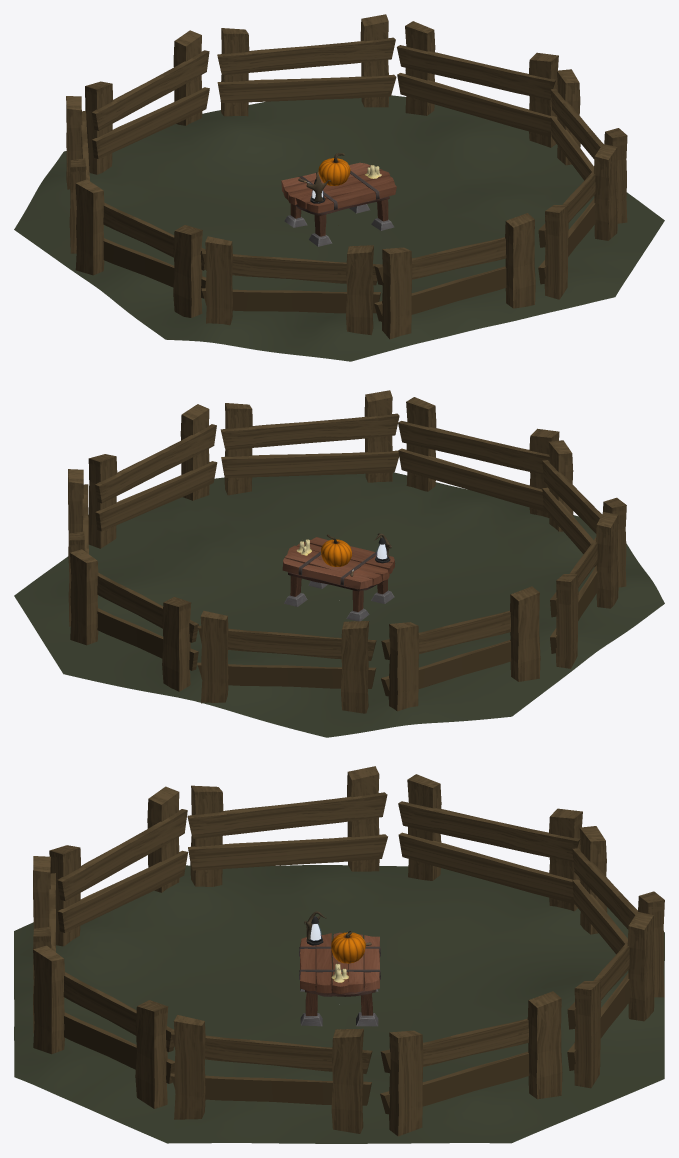
Rendered from KabakSahne180.fbx.
The picture shows the model from 3 angles, top to bottom: view 1: azimuth 30°, elevation 25°; view 2: azimuth 150°, elevation 25°; view 3: azimuth 270°, elevation 25°; orthographic projection. The views are drawn at different scales.
Parts seen in each view (by area): view 1: Plane, Cube.005, Cube.009, Cube.001, Cube.004, Cube.008, Cube.006, Cube.002, Tahta5, Cube.003, Cube.007, KabakDis; view 2: Plane, Cube.002, Cube.006, Cube.007, Cube.001, Cube.003, Cube.005, Cube.008, Tahta5, Cube.009, Cube.004, KabakDis; view 3: Plane, Cube.008, Cube.003, Cube.004, Cube.007, Cube.002, Cube.009, Cube.005, Cube.006, Tahta5, Cube.001, KabakDis.
Boxes of the visible parts, bbox=[...] form: Plane: bbox=[14, 95, 664, 361]; Cube.005: bbox=[217, 14, 396, 116]; Cube.009: bbox=[201, 236, 380, 335]; Cube.001: bbox=[374, 213, 535, 339]; Cube.004: bbox=[397, 21, 558, 147]; Cube.008: bbox=[75, 179, 206, 317]; Cube.006: bbox=[85, 30, 209, 174]; Cube.002: bbox=[538, 144, 617, 299]; Tahta5: bbox=[281, 162, 396, 246]; Cube.003: bbox=[550, 69, 627, 223]; Cube.007: bbox=[66, 96, 89, 253]; KabakDis: bbox=[318, 158, 350, 185]; Plane: bbox=[14, 472, 664, 737]; Cube.002: bbox=[220, 390, 399, 495]; Cube.006: bbox=[197, 610, 376, 713]; Cube.007: bbox=[381, 586, 540, 711]; Cube.001: bbox=[398, 397, 559, 518]; Cube.003: bbox=[88, 404, 217, 548]; Cube.005: bbox=[70, 549, 198, 691]; Cube.008: bbox=[550, 512, 618, 668]; Tahta5: bbox=[282, 537, 395, 621]; Cube.009: bbox=[542, 440, 626, 587]; Cube.004: bbox=[68, 469, 88, 626]; KabakDis: bbox=[321, 539, 351, 566]; Plane: bbox=[14, 865, 664, 1143]; Cube.008: bbox=[187, 766, 387, 886]; Cube.003: bbox=[170, 1015, 372, 1133]; Cube.004: bbox=[380, 991, 562, 1136]; Cube.007: bbox=[398, 774, 582, 911]; Cube.002: bbox=[33, 945, 174, 1108]; Cube.009: bbox=[49, 786, 187, 946]; Cube.005: bbox=[567, 912, 654, 1088]; Cube.006: bbox=[572, 826, 664, 997]; Tahta5: bbox=[299, 932, 380, 1026]; Cube.001: bbox=[33, 856, 55, 1033]; KabakDis: bbox=[331, 932, 365, 963].
Size of the model in its own units: 1189 by 210 by 1187.
